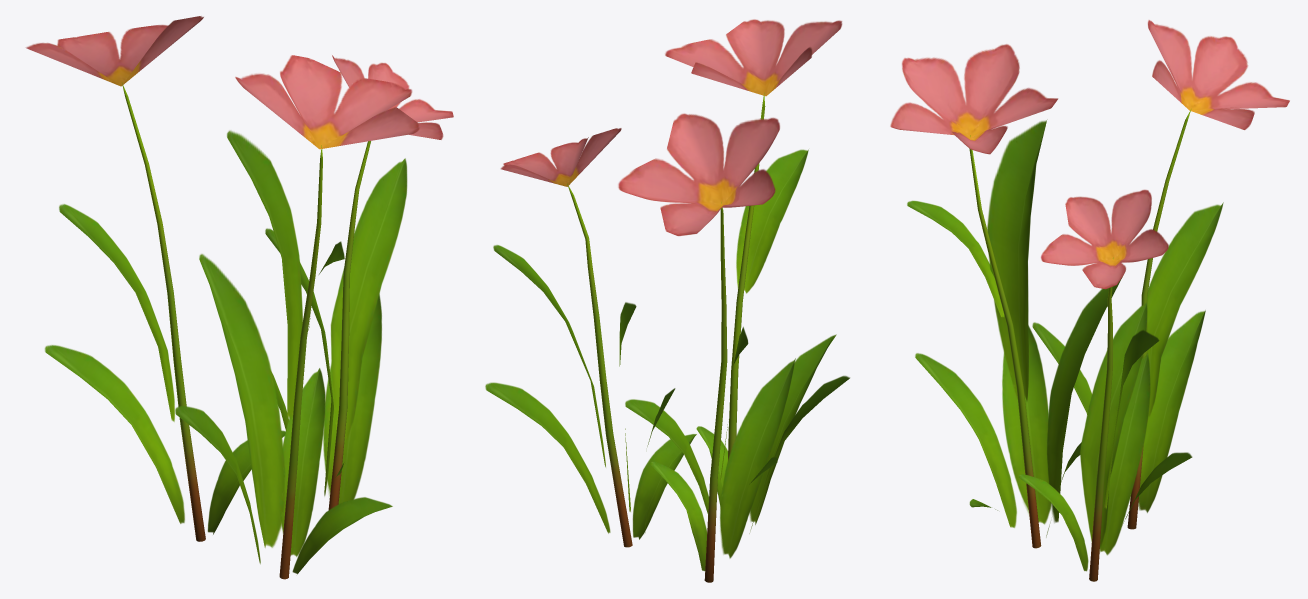
File: mega-flower-group.glb
3 renders of one model, left to right at view 1: azimuth 30°, elevation 25°; view 2: azimuth 150°, elevation 25°; view 3: azimuth 270°, elevation 25°, orthographic. The views are drawn at different scales.
Visible parts, largest first — view 1: Flower_3_Group; view 2: Flower_3_Group; view 3: Flower_3_Group.
Part boxes in pixels (box(x1,y1,x2,y2)): Flower_3_Group: box(25, 16, 453, 579); Flower_3_Group: box(485, 19, 849, 582); Flower_3_Group: box(890, 20, 1289, 581).
Bounding box in the file's own units: 1.49 × 2.05 × 1.59.
Materials: 2 (2 with a texture image).
